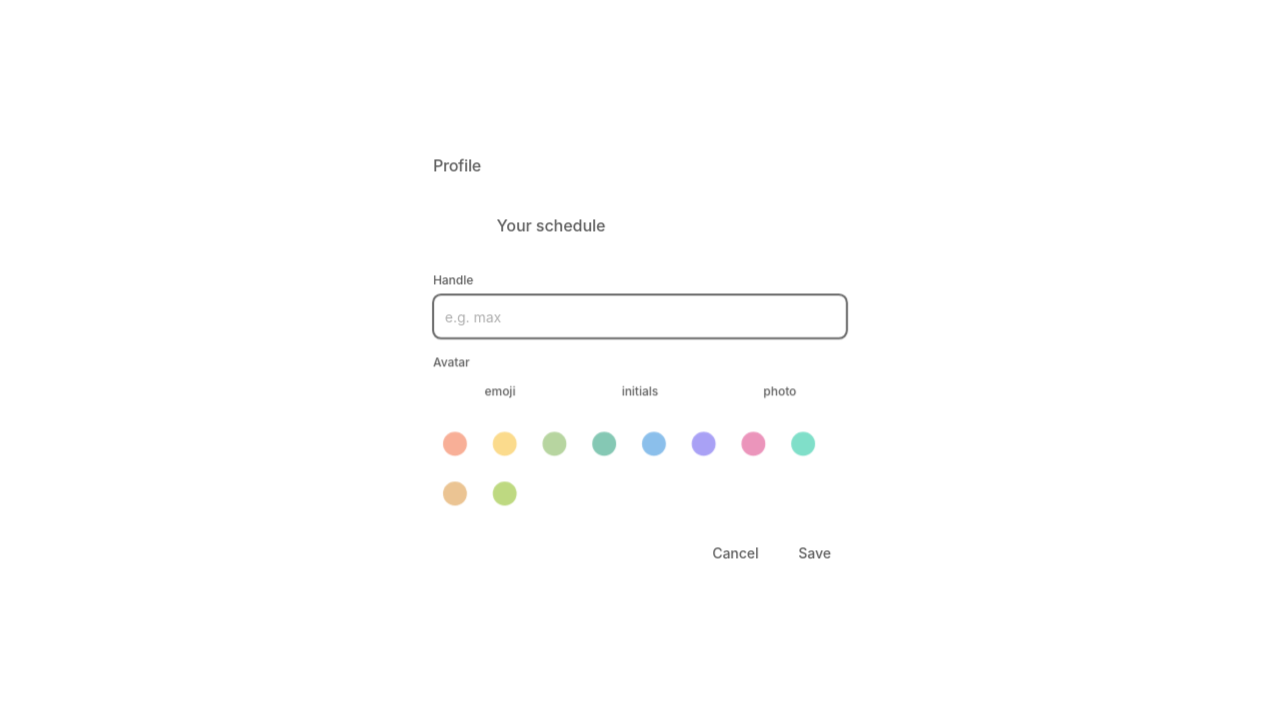
Test: ProfileModal › associates validation with the handle and clears it after editing
Submit the dialog, box [417, 135, 863, 590]
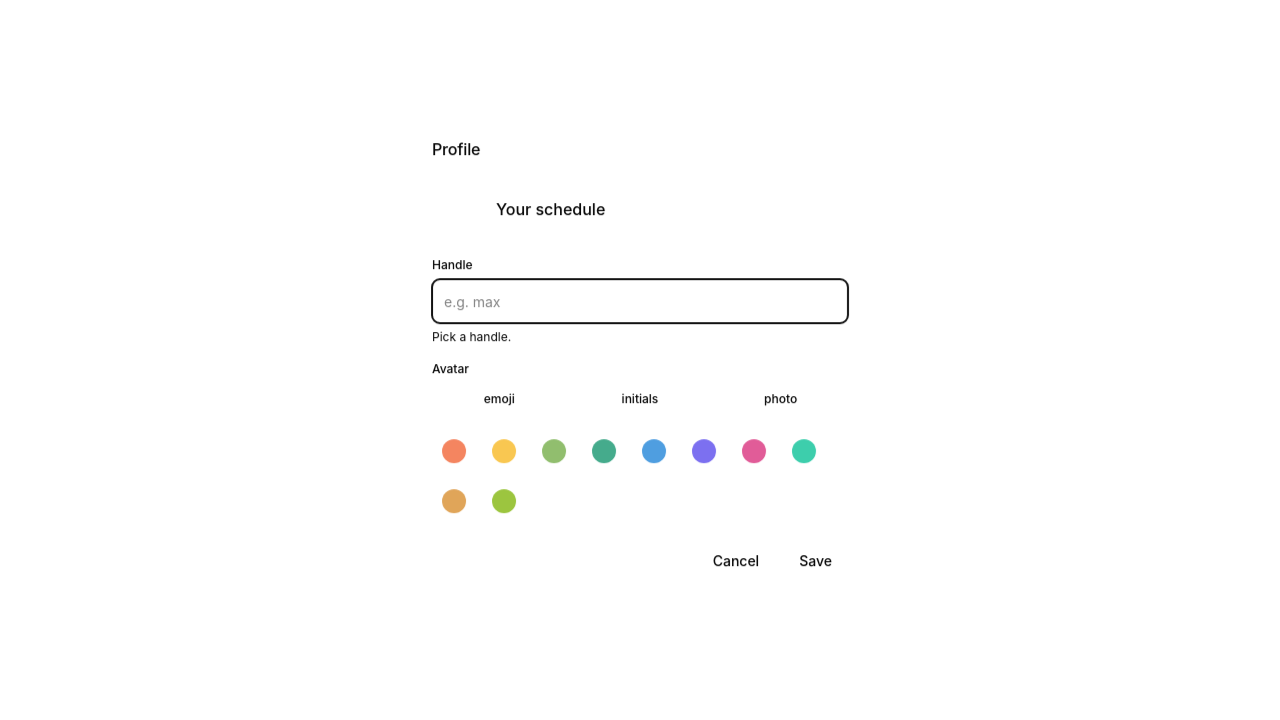
Expected: the message reads "Pick a handle.", [432, 329, 511, 344]
Type "Ada" into the field labelled "Handle" at x=640, y=301, box [432, 279, 848, 323]
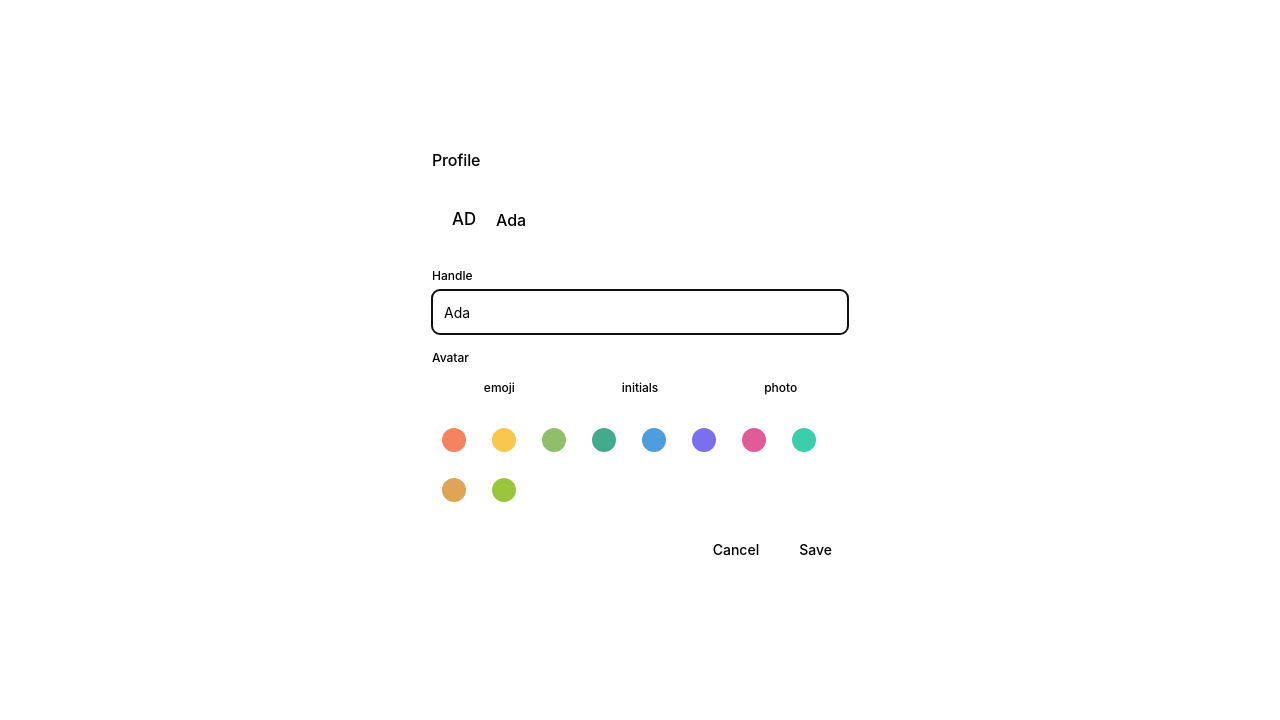
Expected: the message "Pick a handle." is gone
